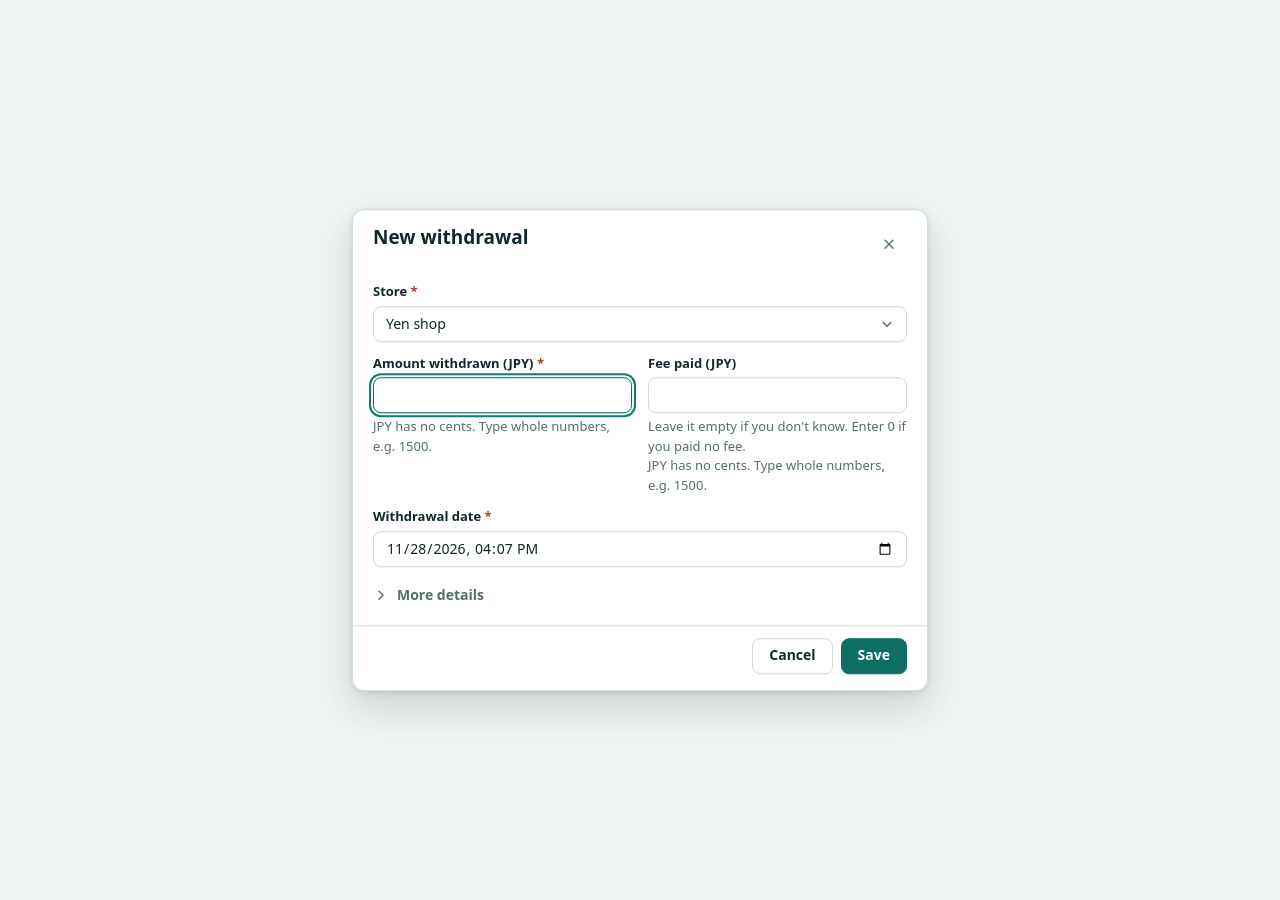
Test: WithdrawalFormModal (12.7b) › moeda sem casas decimais (JPY): digitar decimais dá erro de número inteiro
The image size is (1280, 900).
Type "1500.50" into the field labelled "Amount withdrawn (JPY) *" at (502,395), box [386, 378, 619, 412]
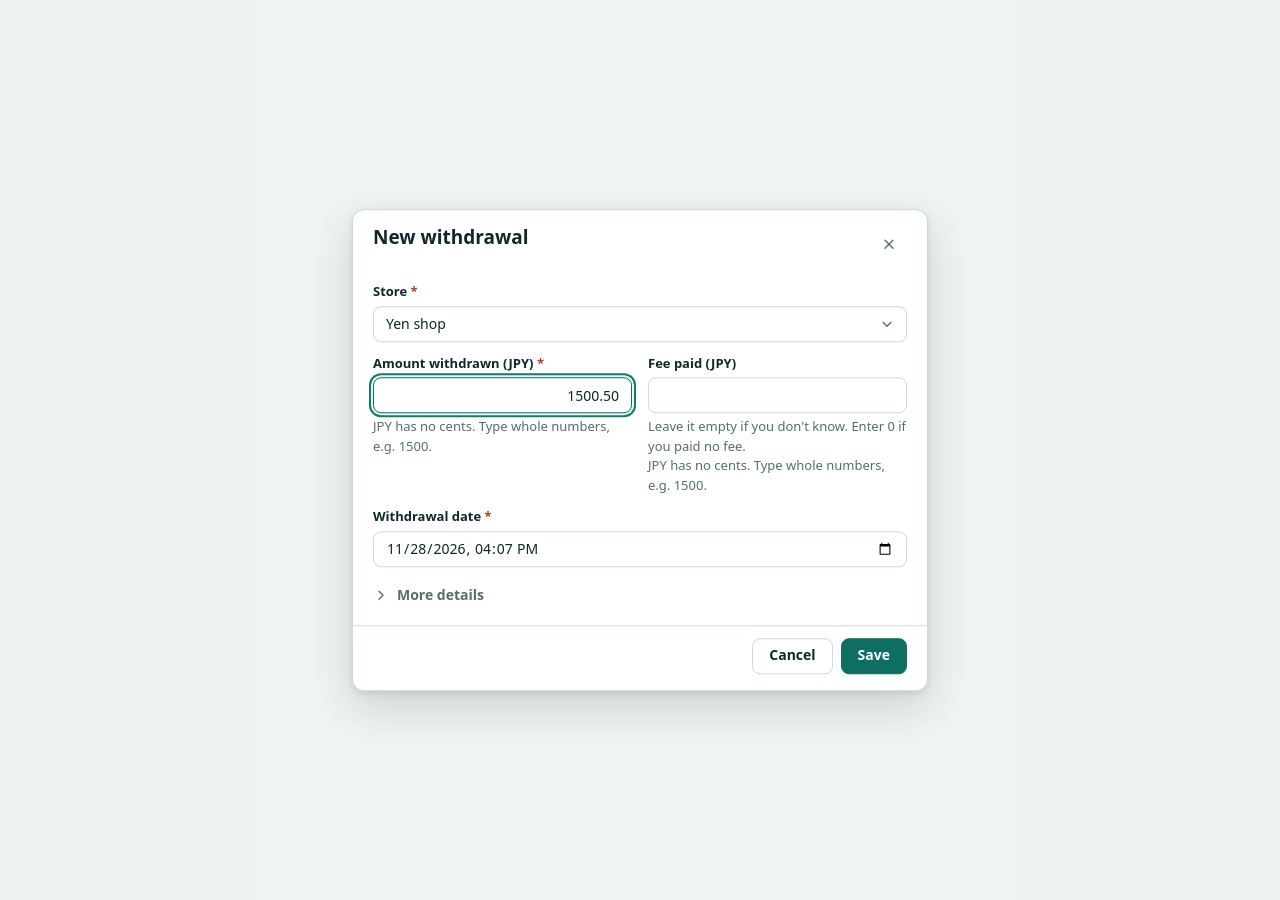
Press Tab
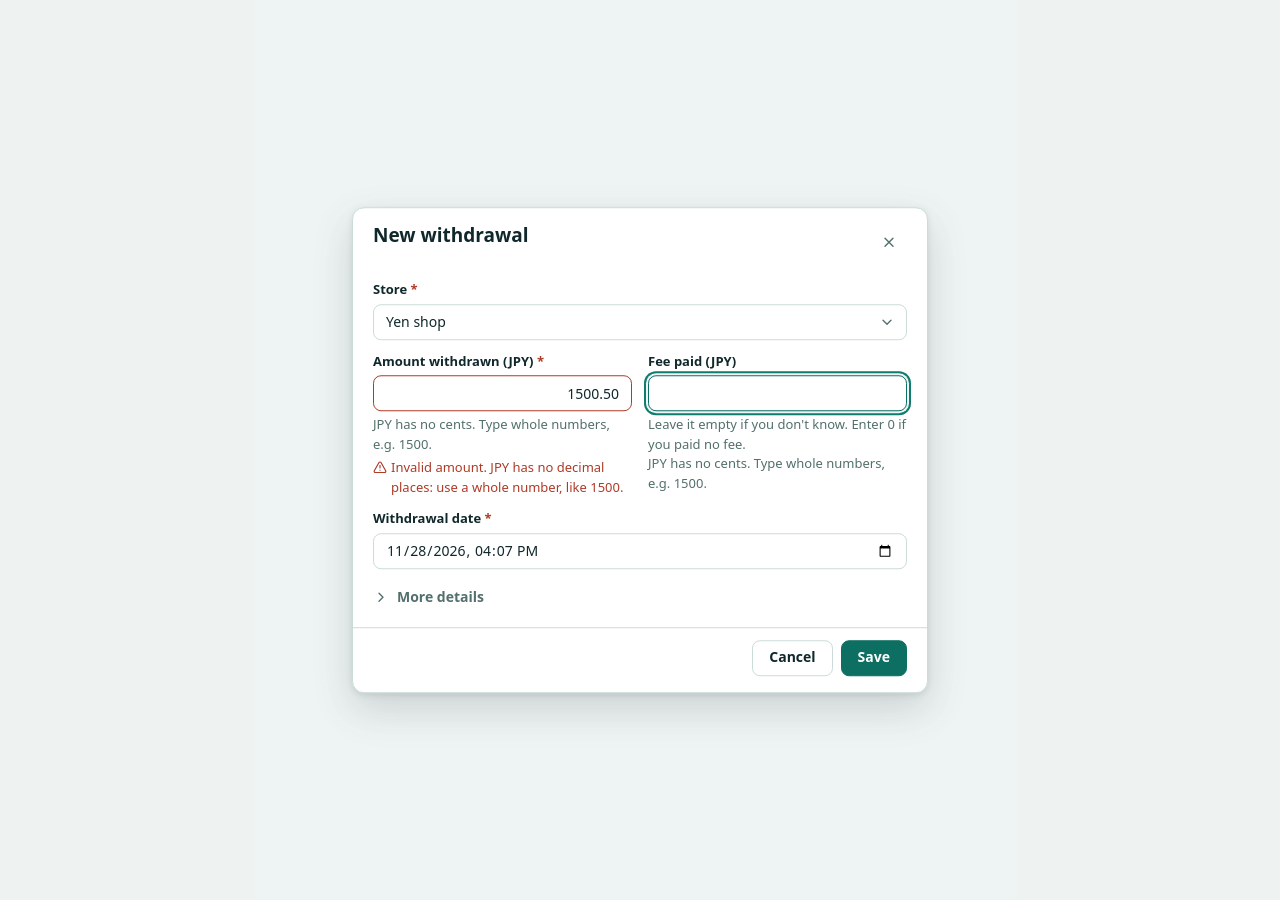
Expected: the text "JPY has no decimal places" is shown, [391, 458, 623, 496]
